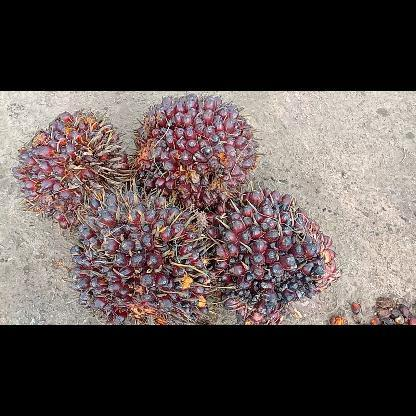Kurang masak: (67, 184, 220, 324), (203, 186, 345, 324), (13, 108, 137, 232)
TBS masak: (131, 90, 263, 214)
